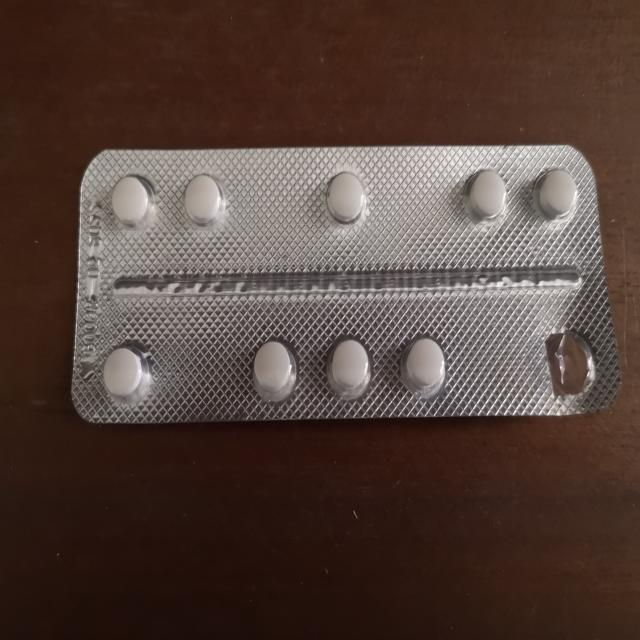Empty: (541, 323, 603, 404)
Pill: (247, 332, 302, 407), (397, 330, 452, 402), (322, 332, 377, 403), (97, 338, 151, 408), (320, 168, 372, 229), (460, 163, 510, 226), (531, 161, 580, 224), (105, 170, 156, 230), (178, 170, 225, 231)
